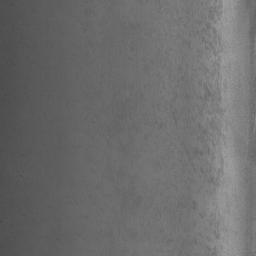Silk spot: (118, 0, 230, 256), (144, 48, 172, 70), (131, 176, 141, 206)
